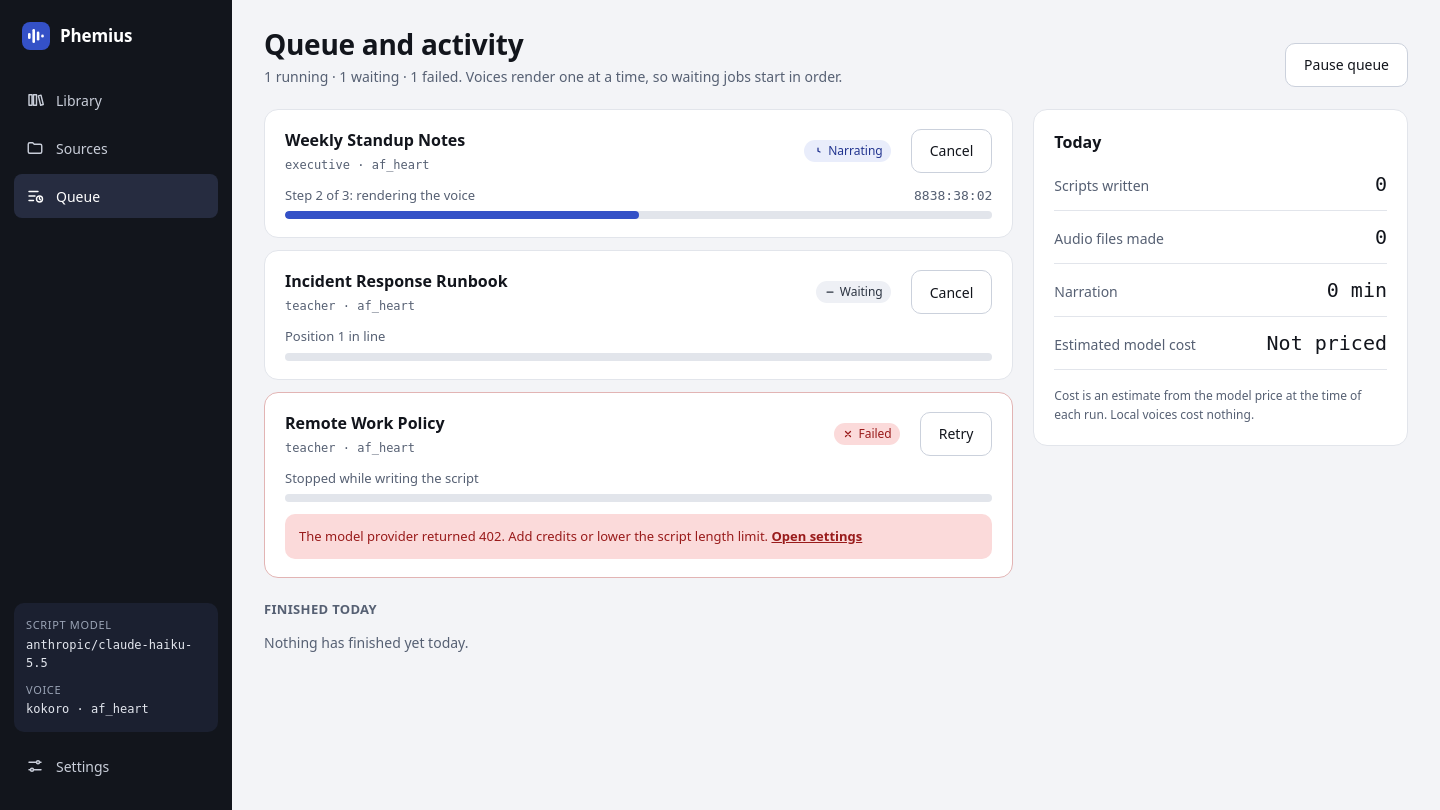
Test: queue › removes a job from the queue when it is cancelled
Expected: the element "Weekly Standup Notes" is shown, x1=264 y1=109 x2=1013 y2=238
Click the button "Cancel" in the row of "Incident Response Runbook": (952, 292) x1=911 y1=270 x2=992 y2=314
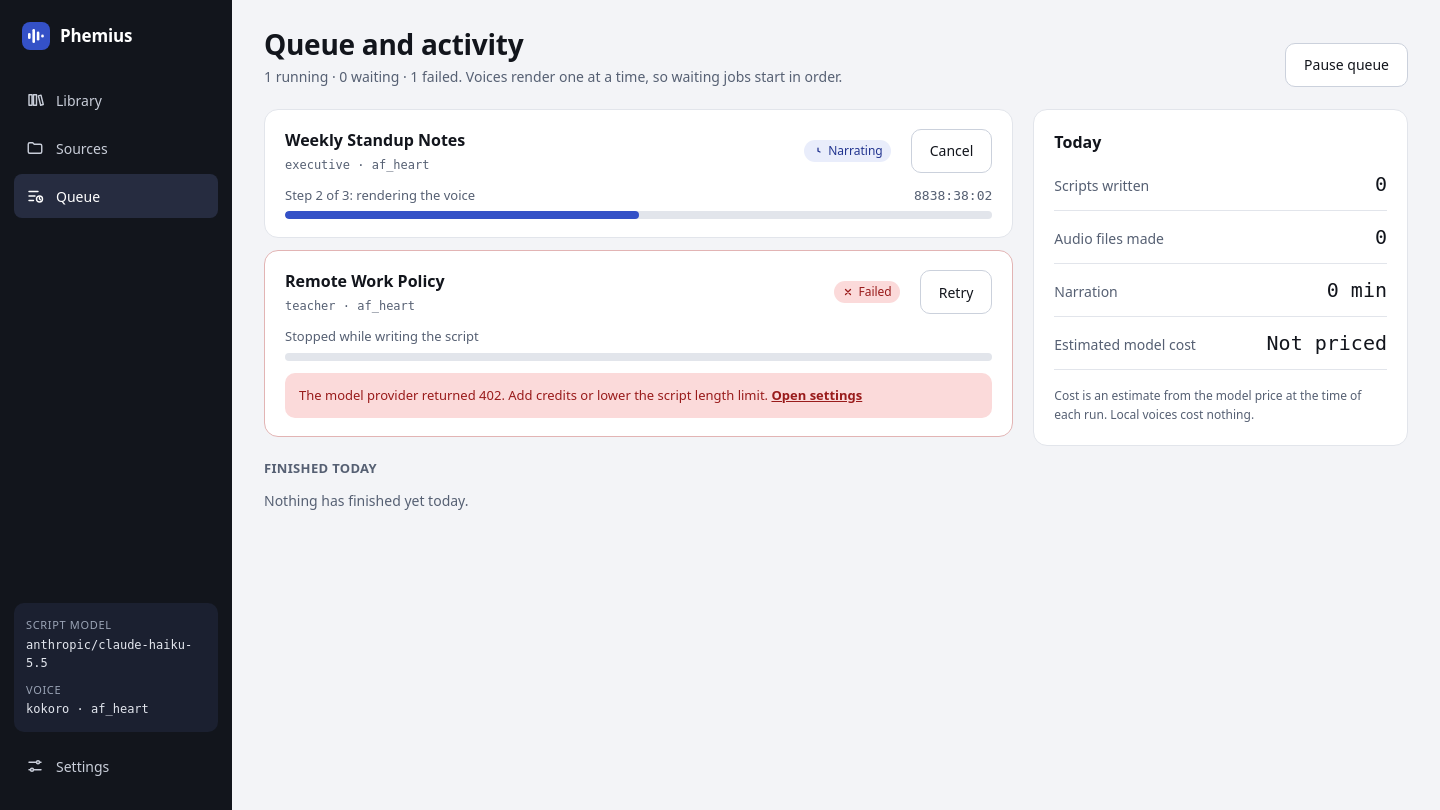
Expected: the link "Incident Response Runbook" is gone
